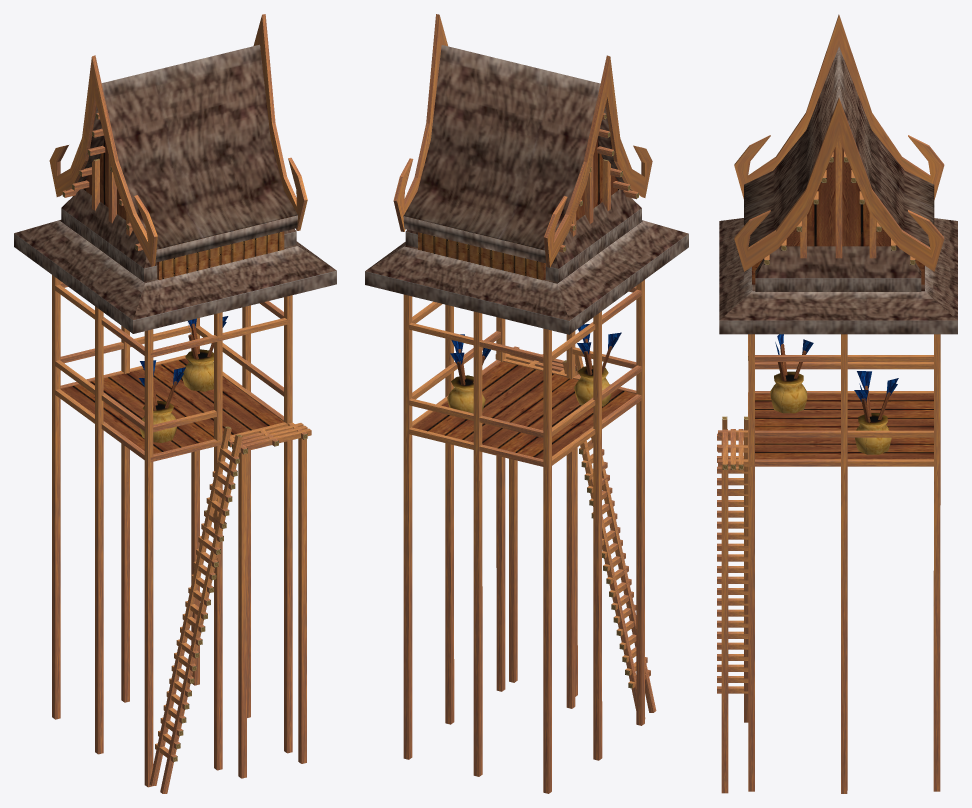
The model's file is sentry_tower.dae.
3 renders of one model, left to right at view 1: azimuth 30°, elevation 25°; view 2: azimuth 150°, elevation 25°; view 3: azimuth 270°, elevation 25°, orthographic.
Parts seen in each view (by area): view 1: woode_tower; view 2: woode_tower; view 3: woode_tower.
Part boxes in pixels (x1,y1,x2,y2): woode_tower: (14,14,336,793); woode_tower: (365,14,688,793); woode_tower: (717,14,957,793).
Bounding box in the file's own units: 8.16 × 8.33 × 26.86.
